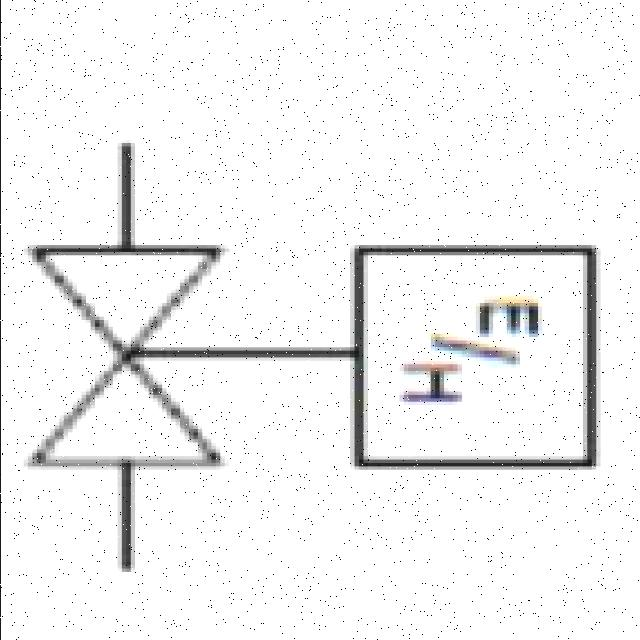Electric operator gate valve: (8, 190, 610, 527)
